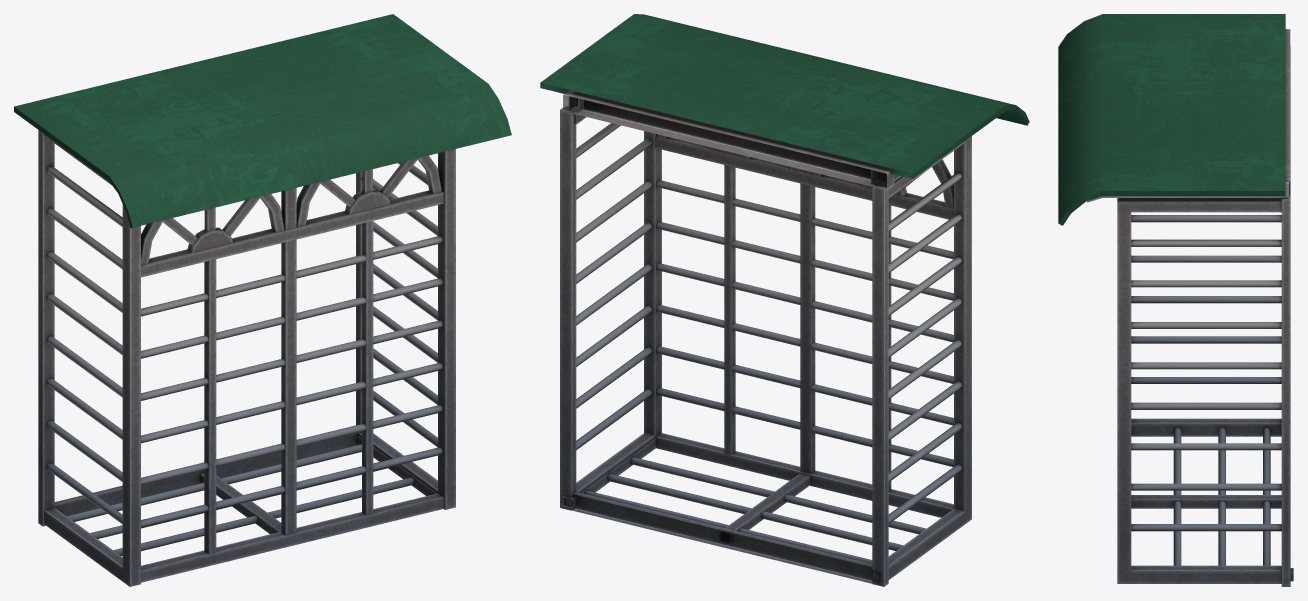
The model's file is Iron_window_v2.fbx.
The picture shows the model from 3 angles, left to right: view 1: azimuth 30°, elevation 25°; view 2: azimuth 150°, elevation 25°; view 3: azimuth 270°, elevation 25°; orthographic projection. The views are drawn at different scales.
Visible parts, largest first — view 1: Iron_window_v2; view 2: Iron_window_v2; view 3: Iron_window_v2.
Part boxes in pixels (bbox=[...]): Iron_window_v2: bbox=[14, 14, 511, 586]; Iron_window_v2: bbox=[540, 14, 1029, 586]; Iron_window_v2: bbox=[1058, 14, 1293, 586].
Size of the model in its own units: 220 by 236 by 124.
